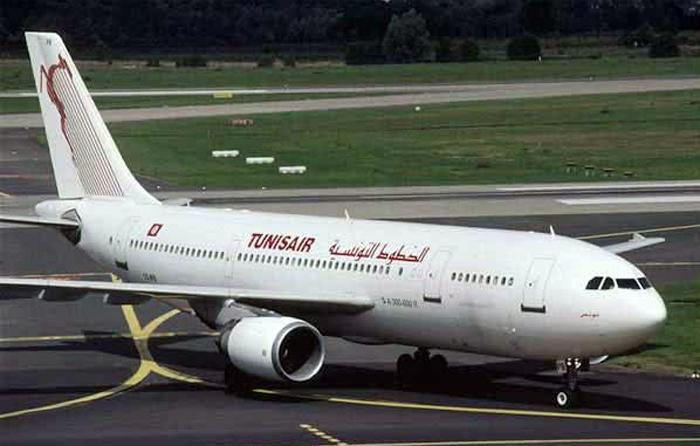airplane: (5, 27, 673, 389)
